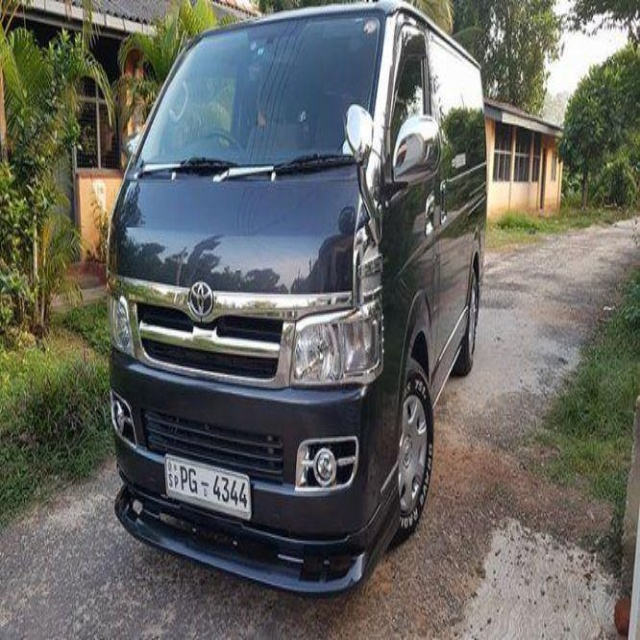Van: (106, 3, 485, 599)
